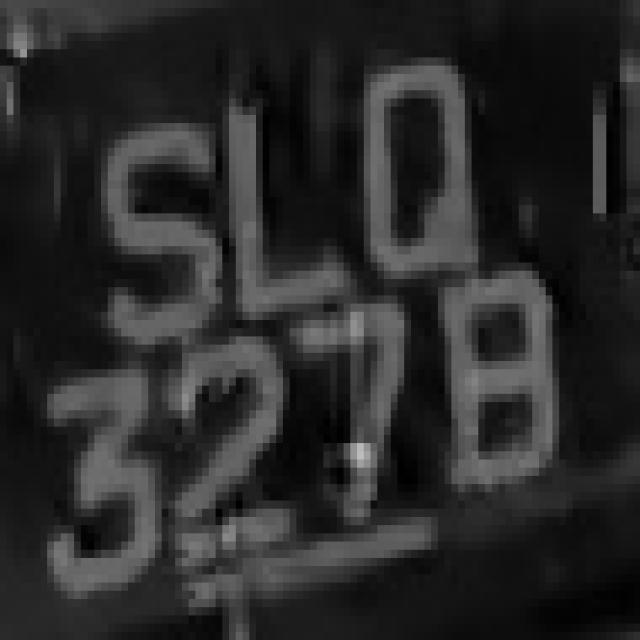2: (155, 320, 317, 583)
3: (34, 336, 155, 640)
7: (276, 279, 431, 550)
B: (438, 254, 573, 509)
L: (202, 66, 371, 328)
Q: (330, 41, 499, 279)
S: (81, 90, 222, 369)
